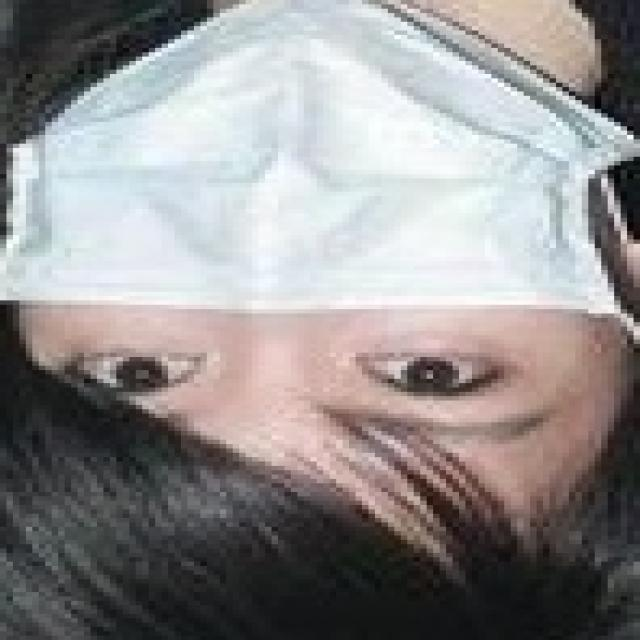mask: (29, 16, 591, 367)
